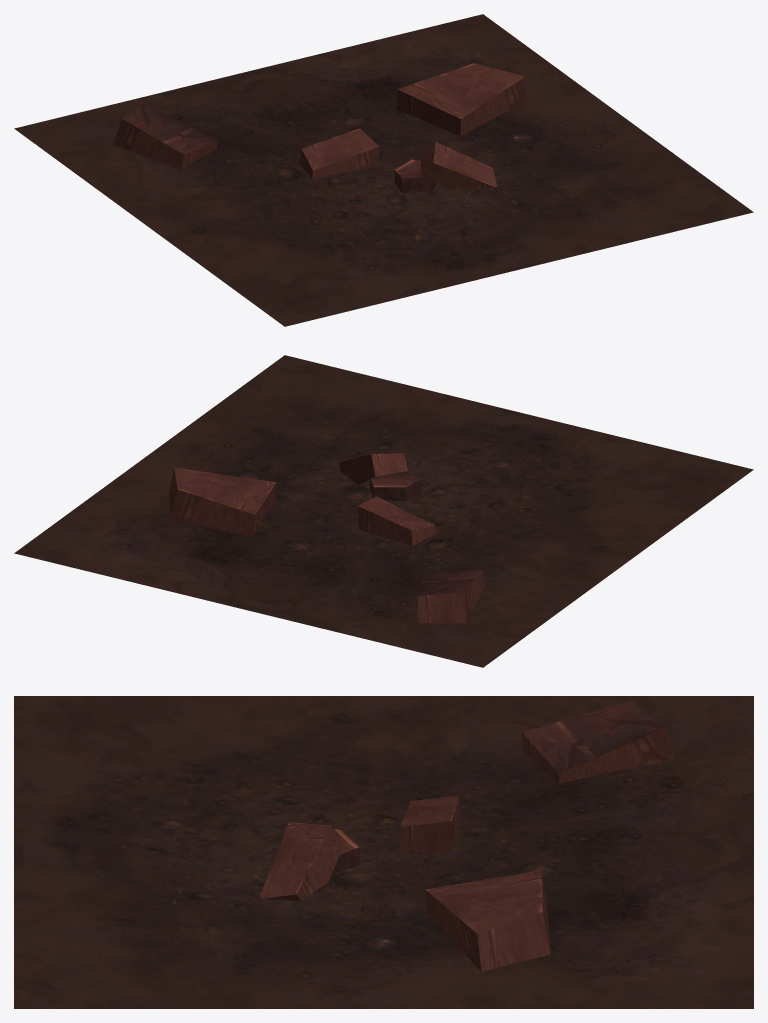
File: lava_rubble_05.fbx
3 views of the same model, one above another, from view 1: azimuth 30°, elevation 25°; view 2: azimuth 150°, elevation 25°; view 3: azimuth 270°, elevation 25° (orthographic). The views are drawn at different scales.
Visible parts, largest first — view 1: lava_rubble_05-0; view 2: lava_rubble_05-0; view 3: lava_rubble_05-0.
Boxes of the visible parts, <box> form: lava_rubble_05-0: <box>14,14,753,326</box>; lava_rubble_05-0: <box>14,355,753,667</box>; lava_rubble_05-0: <box>14,696,753,1008</box>.
Bounding box in the file's own units: 4 × 0.4565 × 4.
